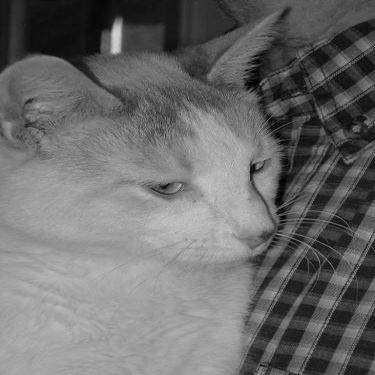cat: (2, 1, 280, 369)
